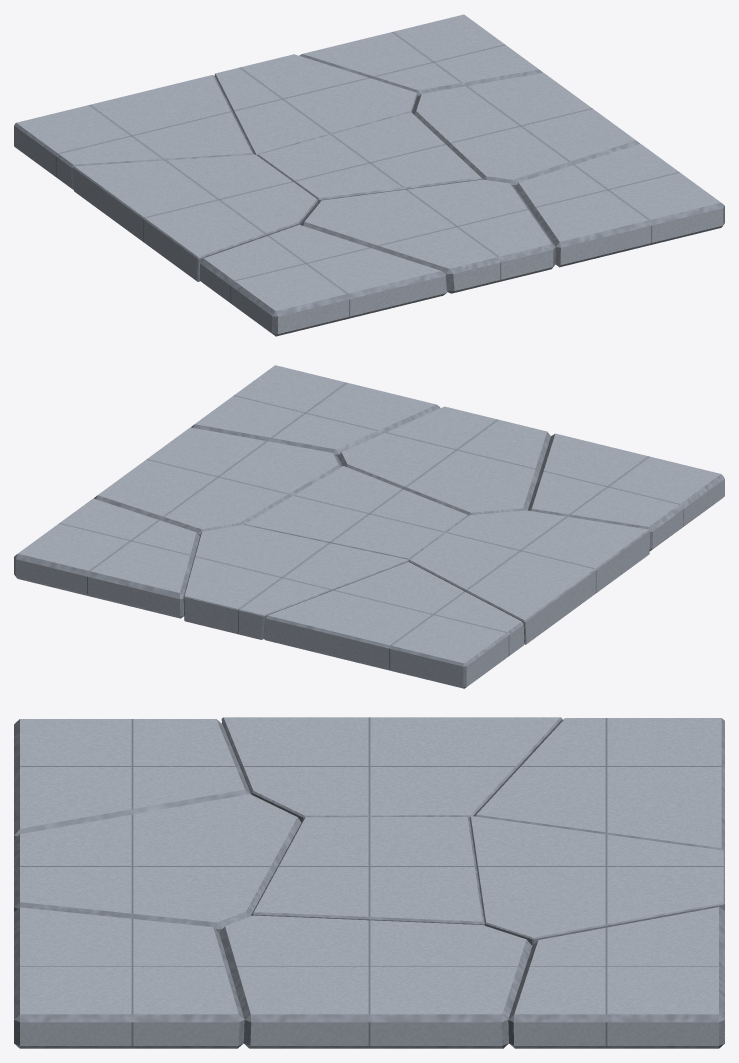
File: Kit_Steel_Floor_Fractured.fbx
3 renders of one model, top to bottom at view 1: azimuth 30°, elevation 25°; view 2: azimuth 150°, elevation 25°; view 3: azimuth 270°, elevation 25°, orthographic. The views are drawn at different scales.
Visible parts, largest first — view 1: Kit_Steel_Floor_frag_02, Kit_Steel_Floor_frag_04, Kit_Steel_Floor_frag_01, Kit_Steel_Floor_frag_07, Kit_Steel_Floor_frag_08, Kit_Steel_Floor_frag_03, Kit_Steel_Floor_frag_06, Kit_Steel_Floor_frag_05, Kit_Steel_Floor_frag_09; view 2: Kit_Steel_Floor_frag_03, Kit_Steel_Floor_frag_02, Kit_Steel_Floor_frag_08, Kit_Steel_Floor_frag_04, Kit_Steel_Floor_frag_06, Kit_Steel_Floor_frag_09, Kit_Steel_Floor_frag_01, Kit_Steel_Floor_frag_07, Kit_Steel_Floor_frag_05; view 3: Kit_Steel_Floor_frag_08, Kit_Steel_Floor_frag_07, Kit_Steel_Floor_frag_04, Kit_Steel_Floor_frag_02, Kit_Steel_Floor_frag_09, Kit_Steel_Floor_frag_03, Kit_Steel_Floor_frag_06, Kit_Steel_Floor_frag_01, Kit_Steel_Floor_frag_05.
Part boxes in pixels (box(x1,y1,x2,y2)): Kit_Steel_Floor_frag_02: box(73, 154, 317, 281); Kit_Steel_Floor_frag_04: box(300, 179, 555, 293); Kit_Steel_Floor_frag_01: box(199, 224, 447, 336); Kit_Steel_Floor_frag_07: box(515, 143, 724, 267); Kit_Steel_Floor_frag_08: box(412, 73, 639, 187); Kit_Steel_Floor_frag_03: box(14, 75, 254, 189); Kit_Steel_Floor_frag_06: box(214, 54, 417, 155); Kit_Steel_Floor_frag_05: box(258, 112, 482, 203); Kit_Steel_Floor_frag_09: box(299, 14, 542, 97); Kit_Steel_Floor_frag_03: box(263, 562, 524, 688); Kit_Steel_Floor_frag_02: box(409, 510, 649, 644); Kit_Steel_Floor_frag_08: box(94, 427, 341, 535); Kit_Steel_Floor_frag_04: box(338, 406, 550, 515); Kit_Steel_Floor_frag_06: box(183, 524, 408, 639); Kit_Steel_Floor_frag_09: box(14, 498, 199, 618); Kit_Steel_Floor_frag_01: box(528, 433, 724, 551); Kit_Steel_Floor_frag_07: box(191, 365, 440, 456); Kit_Steel_Floor_frag_05: box(244, 466, 468, 560); Kit_Steel_Floor_frag_08: box(219, 915, 532, 1048); Kit_Steel_Floor_frag_07: box(14, 907, 244, 1048); Kit_Steel_Floor_frag_04: box(14, 794, 301, 932); Kit_Steel_Floor_frag_02: box(221, 717, 562, 822); Kit_Steel_Floor_frag_09: box(508, 907, 724, 1048); Kit_Steel_Floor_frag_03: box(474, 718, 724, 851); Kit_Steel_Floor_frag_06: box(469, 816, 724, 945); Kit_Steel_Floor_frag_01: box(14, 719, 250, 839); Kit_Steel_Floor_frag_05: box(251, 817, 484, 925).
Size of what is drawn, in the model's own units: 3 by 0.16 by 3.
2 materials, 2 textured.
